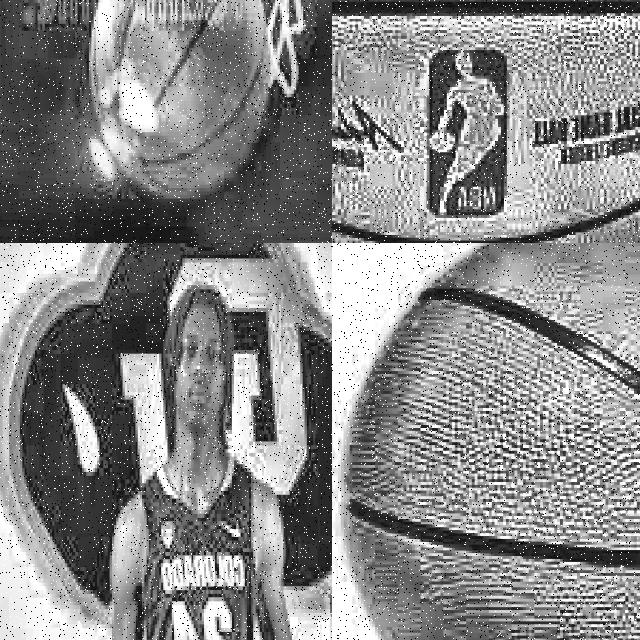Basketball: (341, 243, 640, 640), (332, 0, 640, 243), (89, 0, 271, 199)
